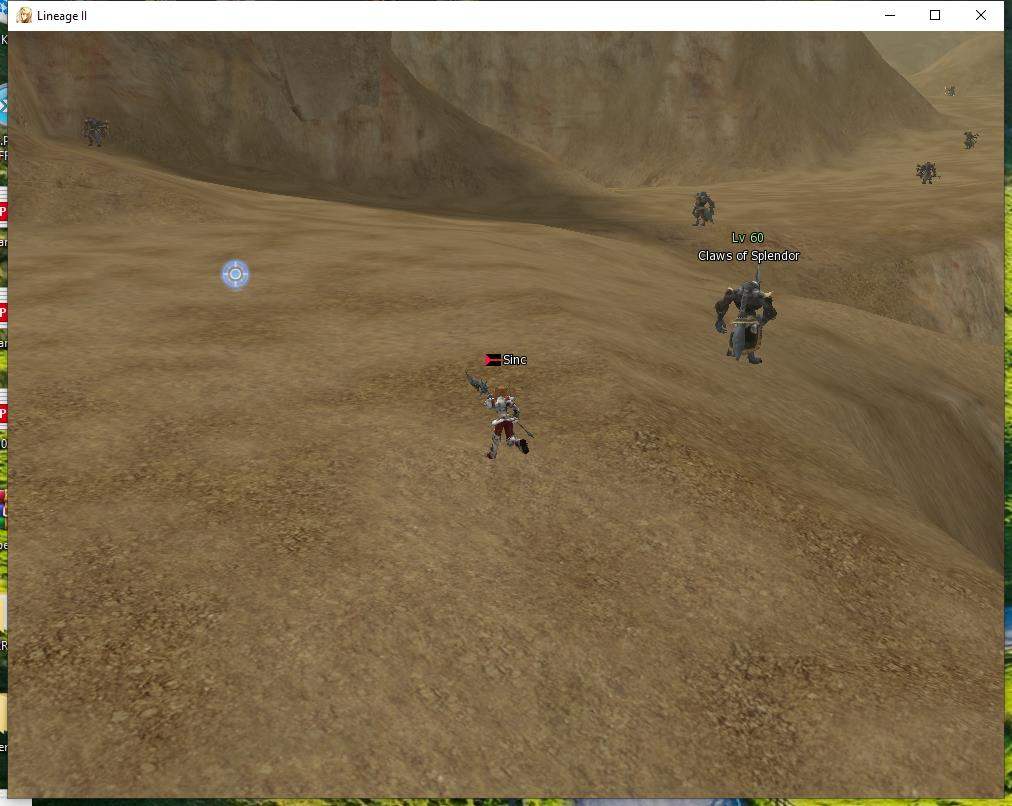monster: (696, 226, 812, 361), (86, 111, 127, 161), (684, 184, 727, 225), (911, 155, 944, 188), (960, 118, 983, 153), (941, 76, 962, 98)
